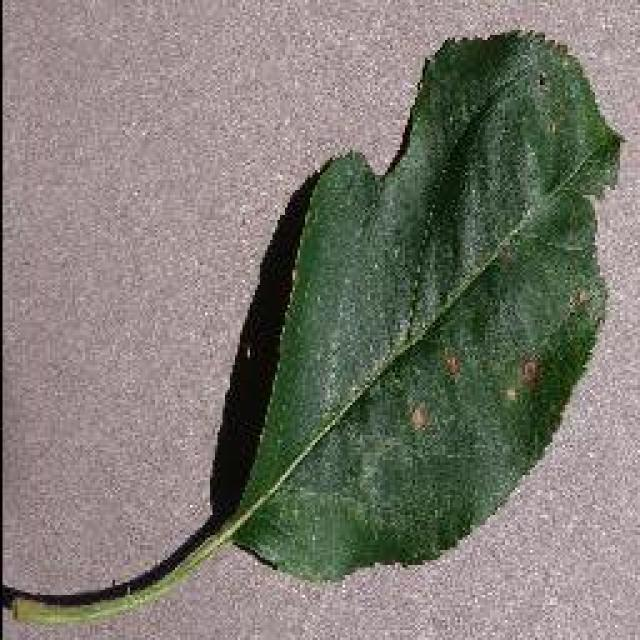Black_rot: (0, 25, 625, 625)
